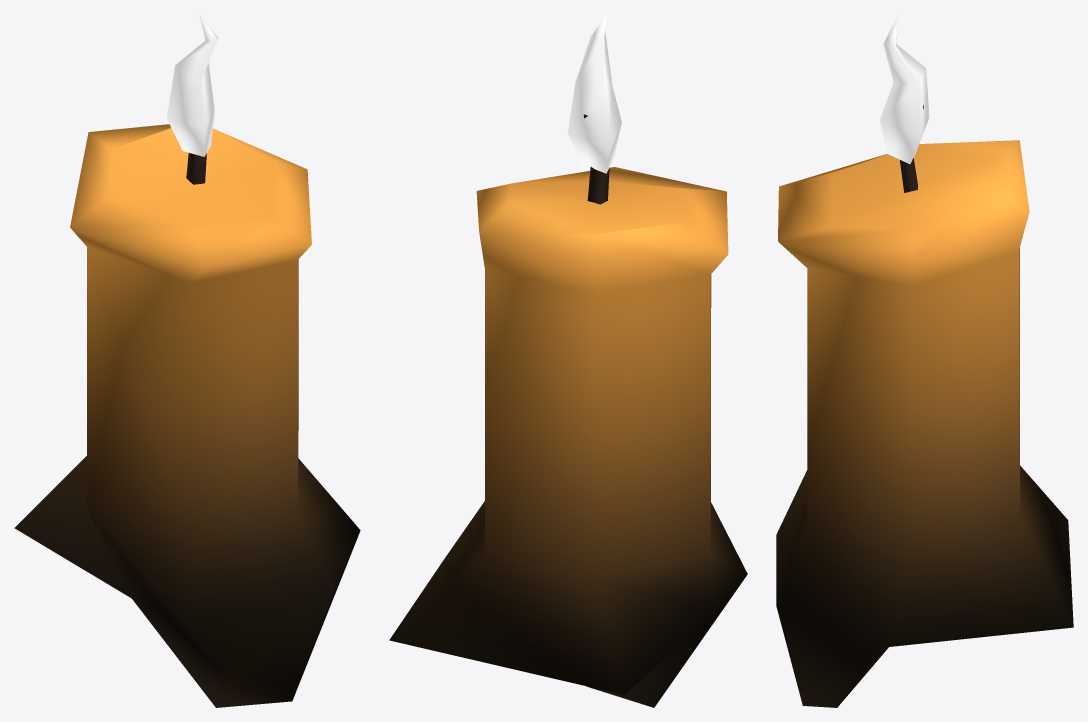
Rendered from CandleShapeE.008.glb.
3 views of the same model, side by side, from view 1: azimuth 30°, elevation 25°; view 2: azimuth 150°, elevation 25°; view 3: azimuth 270°, elevation 25° (orthographic). The views are drawn at different scales.
Parts seen in each view (by area): view 1: CandleShapeE.008; view 2: CandleShapeE.008; view 3: CandleShapeE.008.
Boxes of the visible parts, <box> form: CandleShapeE.008: <box>14,14,360,707</box>; CandleShapeE.008: <box>389,14,747,707</box>; CandleShapeE.008: <box>776,15,1073,707</box>.
Size of the model in its own units: 0.1424 by 0.327 by 0.1308.
2 materials, 2 textured.
